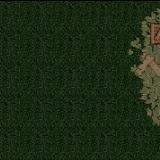Hide: (104, 15, 160, 79)
Obstacle: (127, 0, 160, 128)
